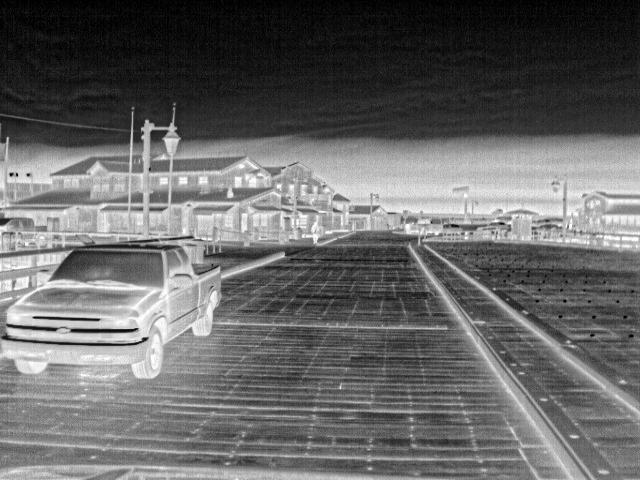car: (4, 241, 222, 379), (2, 214, 46, 234), (403, 218, 445, 237), (475, 220, 510, 232), (442, 222, 464, 234)
person: (309, 220, 321, 248)
